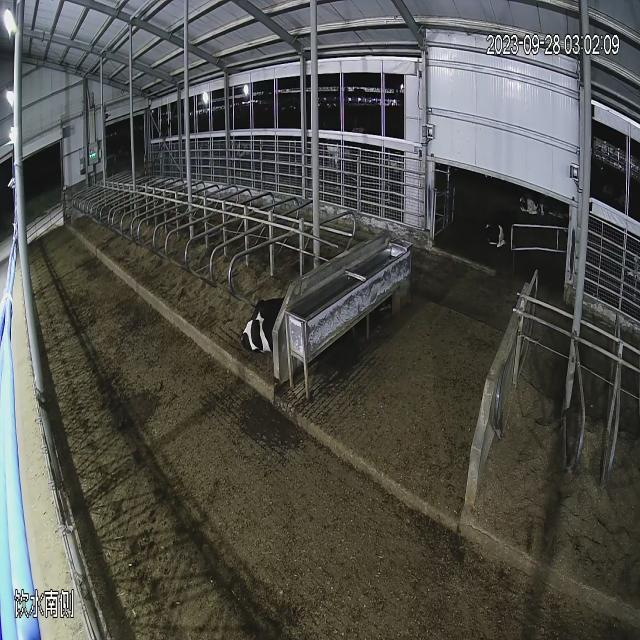lying down: (222, 272, 310, 370), (474, 190, 511, 296), (512, 182, 564, 240)
